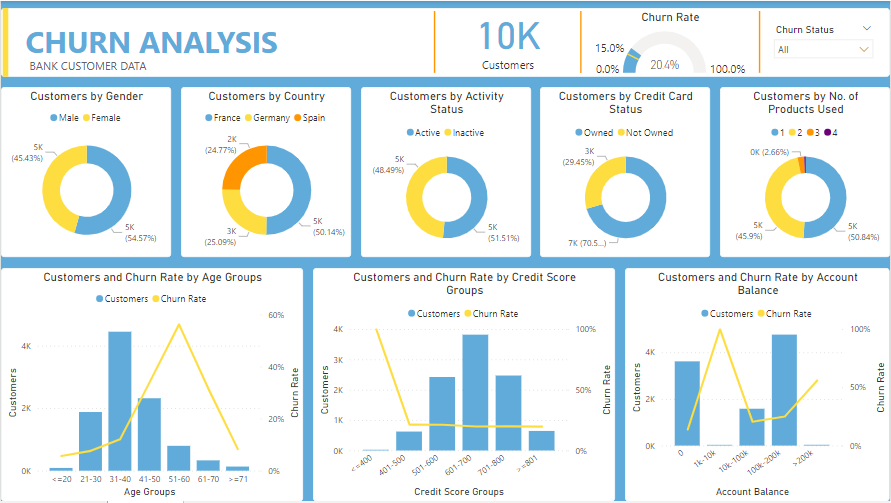

Layout of this report page (visuals, bound fields, positions):
{"tool":"powerbi","page":{"name":"Page 1","canvas":[1280,720],"ordinal":0},"visuals":[{"type":"shape","box":[0,10.1,1280.2,99.4],"z":0},{"type":"card","fields":{"Values":["Churn_Analysis_Customer_Data.Customers"]},"box":[635,1.4,190.1,103.7],"z":1000},{"type":"donutChart","fields":{"Category":["Customer_Data.Gender"],"Y":["Customer_Data.Customers"]},"box":[0,123.8,245,245],"z":2000},{"type":"donutChart","fields":{"Y":["Customer_Data.Customers"],"Category":["Customer_Data.Activity Status"]},"box":[517.7,123.8,245,245],"z":3000},{"type":"donutChart","fields":{"Y":["Customer_Data.Customers"],"Category":["Customer_Data.Credit Card Status"]},"box":[776.5,123.8,245,245],"z":4000},{"type":"donutChart","title":"Customers by No. of Products Used","fields":{"Y":["Customer_Data.Customers"],"Category":["Customer_Data.Products Used"]},"box":[1035,123.8,245,245],"z":5000},{"type":"donutChart","fields":{"Y":["Customer_Data.Customers"],"Category":["Customer_Data.Country"]},"box":[258.8,123.8,245,245],"z":6000},{"type":"lineClusteredColumnComboChart","fields":{"Category":["Age Groups.Age Groups"],"Y":["Customer_Data.Customers"],"Y2":["Customer_Data.Churn Rate"]},"box":[0,384.5,435,335.5],"z":7000},{"type":"lineClusteredColumnComboChart","fields":{"Y":["Customer_Data.Customers"],"Y2":["Customer_Data.Churn Rate"],"Category":["Credit Score Groups.Credit Score Groups"]},"box":[449.9,384.5,435,335.5],"z":8000},{"type":"lineClusteredColumnComboChart","fields":{"Y":["Customer_Data.Customers"],"Y2":["Customer_Data.Churn Rate"],"Category":["Account Balance.Account Balance"]},"box":[899,384.5,381,335.5],"z":9000},{"type":"slicer","fields":{"Values":["Customer_Data.Churn Status"]},"box":[1103,27.6,162.7,61.9],"z":10000},{"type":"gauge","title":"Churn Rate","fields":{"Y":["Customer_Data.Churn Rate"],"MinValue":["Min(Customer_Data.Min. Churn Rate)"],"MaxValue":["Max(Customer_Data.Max. Churn Rate)"],"TargetValue":["Max(Customer_Data.Target Churn Rate)"]},"box":[846.7,13,234.7,105.1],"z":11000},{"type":"textbox","box":[30.2,24.5,419,72],"z":12000},{"type":"textbox","box":[36,77.8,208.8,36],"z":13000},{"type":"shape","box":[616.3,13.9,15.8,89.3],"z":14000},{"type":"shape","box":[828.6,13.9,14.4,89.3],"z":15000},{"type":"shape","box":[1084,13.9,15.8,89.3],"z":16000},{"type":"shape","box":[0,10.1,13,99.4],"z":17000}]}

Visuals, with their boxes in screenshot pixels (x1, y1, x2, y2), scaled from the page's 1280x720 canvas onto the 891x503 screenshot:
shape: 0,7,890,76
card - Churn_Analysis_Customer_Data.Customers: 442,1,574,73
donutChart - Customer_Data.Gender x Customer_Data.Customers: 0,86,171,258
donutChart - Customer_Data.Customers x Customer_Data.Activity Status: 360,86,531,258
donutChart - Customer_Data.Customers x Customer_Data.Credit Card Status: 541,86,711,258
"Customers by No. of Products Used" donutChart: 720,86,890,258
donutChart - Customer_Data.Customers x Customer_Data.Country: 180,86,351,258
lineClusteredColumnComboChart - Age Groups.Age Groups x Customer_Data.Customers: 0,269,303,502
lineClusteredColumnComboChart - Customer_Data.Customers x Customer_Data.Churn Rate: 313,269,616,502
lineClusteredColumnComboChart - Customer_Data.Customers x Customer_Data.Churn Rate: 626,269,890,502
slicer - Customer_Data.Churn Status: 768,19,881,63
"Churn Rate" gauge: 589,9,753,83
textbox: 21,17,313,67
textbox: 25,54,170,80
shape: 429,10,440,72
shape: 577,10,587,72
shape: 755,10,766,72
shape: 0,7,9,76
